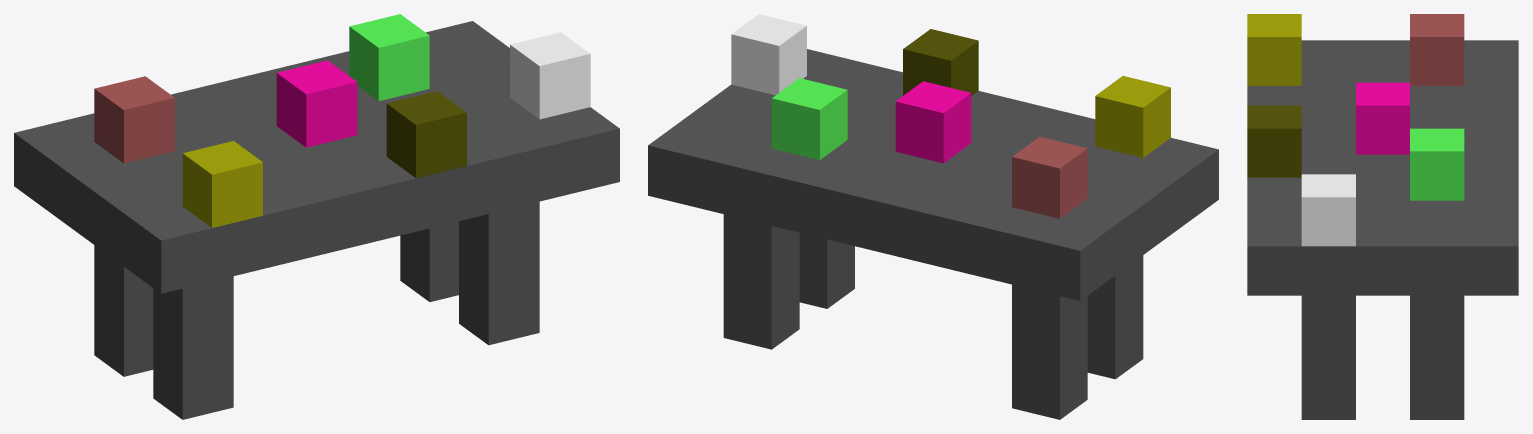
Rendered from sale.cube.obj.
The picture shows the model from 3 angles, left to right: view 1: azimuth 30°, elevation 25°; view 2: azimuth 150°, elevation 25°; view 3: azimuth 270°, elevation 25°; orthographic projection. The views are drawn at different scales.
Size of the model in its own units: 9 by 5 by 5.
Materials: 1 (1 with a texture image).
